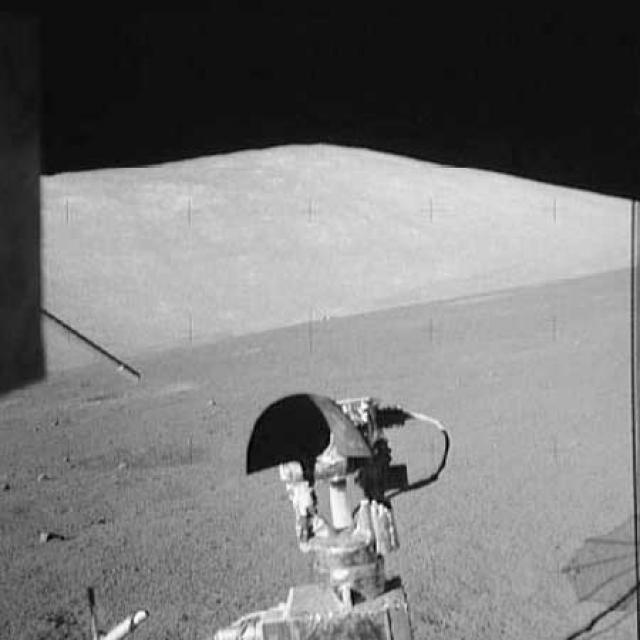artifact: (212, 387, 456, 638), (71, 439, 210, 469)
crater: (89, 374, 206, 403)
